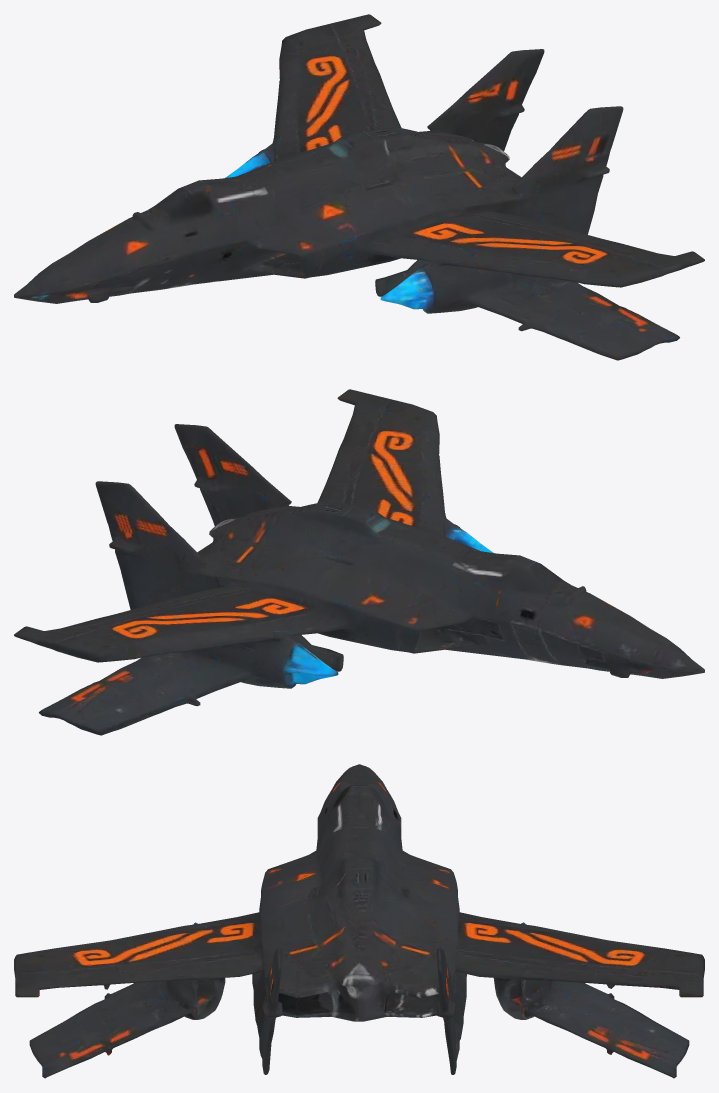
The model's file is heavy_bomber.glb.
The picture shows the model from 3 angles, top to bottom: view 1: azimuth 30°, elevation 25°; view 2: azimuth 150°, elevation 25°; view 3: azimuth 270°, elevation 25°; orthographic projection. The views are drawn at different scales.
Bounding box in the file's own units: 1.86 × 0.4423 × 1.91.
Materials: 1 (1 with a texture image).
